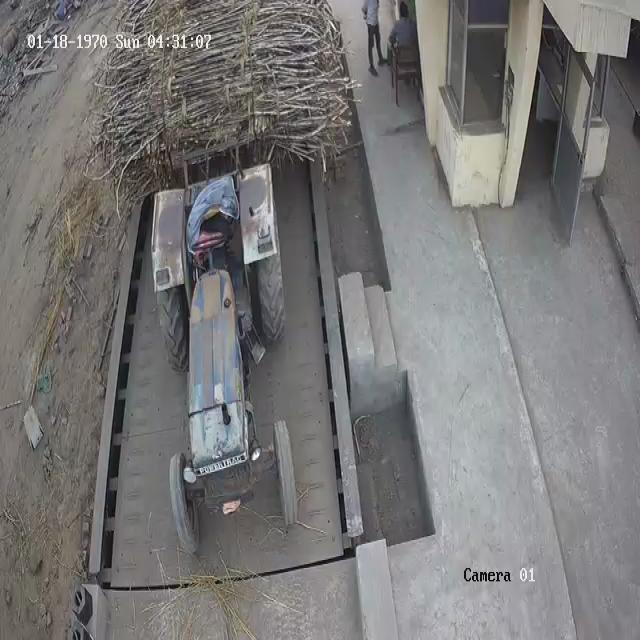Tratores - v5 YOLO V8L 2024-11-13: (149, 182, 299, 560)
